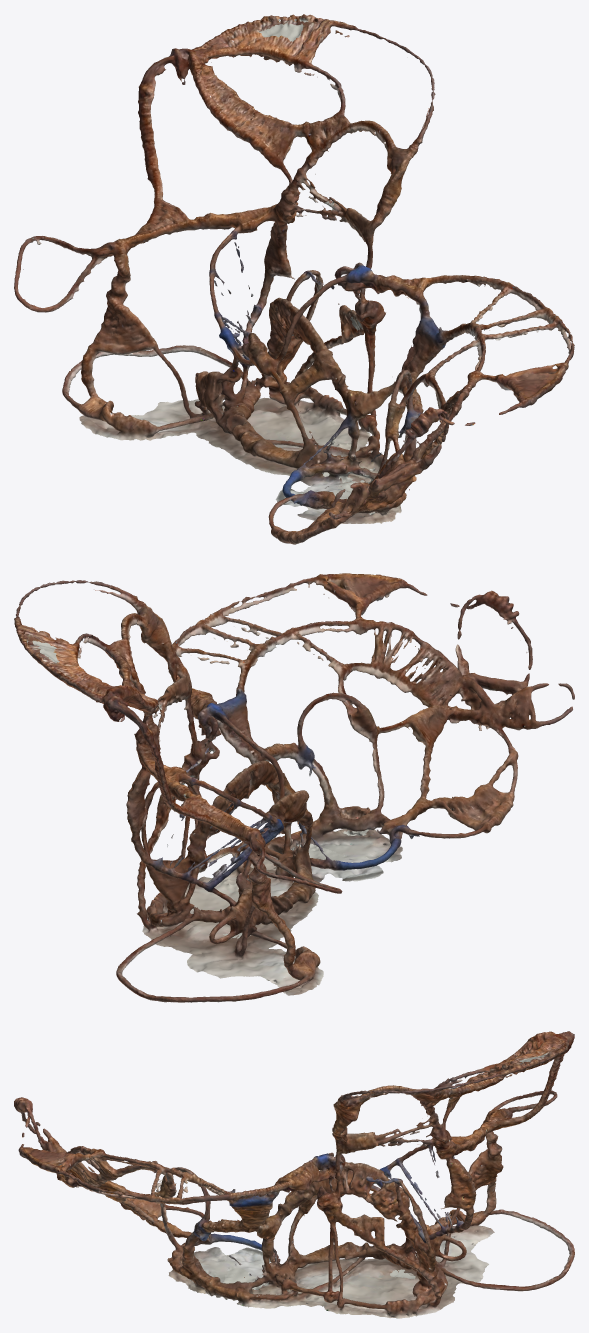
3 views of the same model, one above another, from view 1: azimuth 30°, elevation 25°; view 2: azimuth 150°, elevation 25°; view 3: azimuth 270°, elevation 25° (orthographic). The views are drawn at different scales.
Size of the model in its own units: 1.32 by 1.18 by 2.1.
99 materials, 99 textured.
